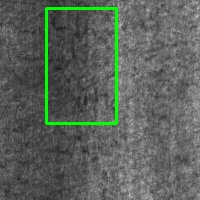crazing: (46, 9, 116, 123)
